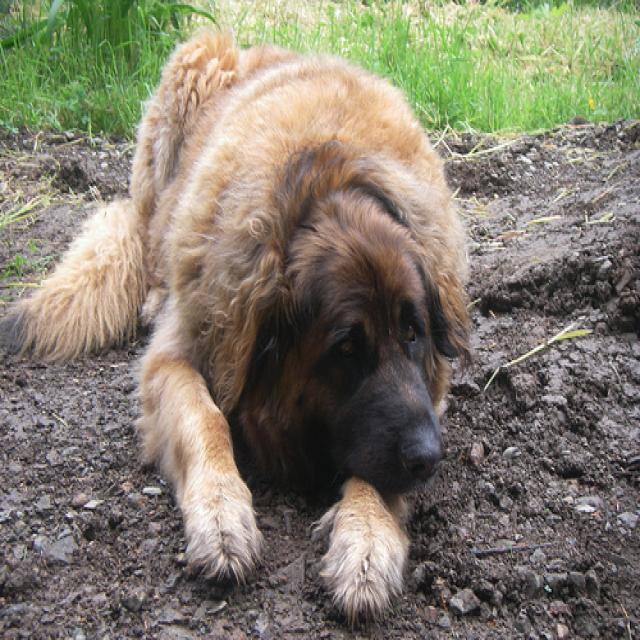dog-leonberger: (1, 22, 479, 630)
